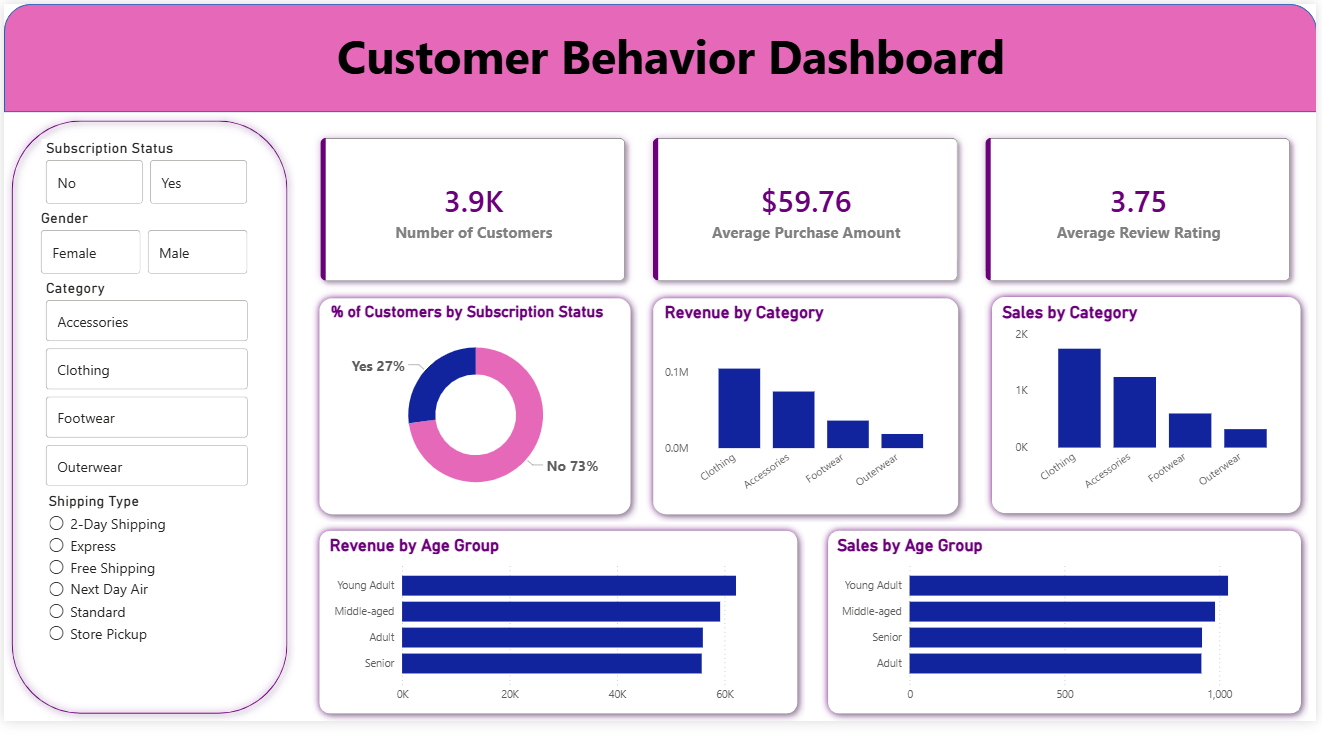

The dashboard page shown, as its layout file describes it:
{"tool":"powerbi","page":{"name":"Page 1","canvas":[1500,820],"ordinal":0},"visuals":[{"type":"cardVisual","fields":{"Data":["public customer.Number of Customers","public customer.Average Purchase Amount","public customer.Average Review Rating"]},"box":[332.5,123.7,1167.9,221.2],"z":0},{"type":"shape","box":[0,0,1500.4,123.7],"z":1},{"type":"textbox","box":[81.1,16.5,1376.7,137.4],"z":2},{"type":"shape","box":[351.7,327,373.7,265.2],"z":3},{"type":"donutChart","title":"% of Customers by Subscription Status","fields":{"Category":["public customer.subscription_status"],"Y":["CountNonNull(public customer.customer_id)"]},"box":[367.1,342.9,341.4,235.7],"z":4},{"type":"shape","box":[732.3,327,366.9,265.2],"z":5},{"type":"shape","box":[1119.8,325.6,371,265.2],"z":6},{"type":"clusteredColumnChart","title":"Revenue by Category","fields":{"Y":["Sum(public customer.purchase_amount)"],"Category":["public customer.category"]},"box":[750.2,340.8,332.5,236.3],"z":7},{"type":"clusteredColumnChart","title":"Sales by Category","fields":{"Y":["CountNonNull(public customer.customer_id)"],"Category":["public customer.category"]},"box":[1135.7,341.4,340,235.7],"z":8},{"type":"shape","box":[0,124.3,332.9,695.7],"z":9},{"type":"advancedSlicerVisual","fields":{"Values":["public customer.subscription_status"]},"box":[42.9,154.3,241.4,80],"z":10},{"type":"advancedSlicerVisual","fields":{"Values":["public customer.gender"]},"box":[37.1,234.3,247.1,80],"z":11},{"type":"advancedSlicerVisual","fields":{"Values":["public customer.category"]},"box":[42.9,314.3,241.4,242.9],"z":12},{"type":"listSlicer","fields":{"Values":["public customer.shipping_type"]},"box":[45.7,557.1,237.1,231.4],"z":13},{"type":"shape","box":[351.4,592.9,564.3,227.1],"z":14},{"type":"clusteredBarChart","title":"Revenue by Age Group","fields":{"Y":["Sum(public customer.purchase_amount)"],"Category":["public customer.age_group"]},"box":[367.1,607.1,532.9,200],"z":15},{"type":"shape","box":[932.9,592.9,558.6,227.1],"z":16},{"type":"clusteredBarChart","title":"Sales by Age Group","fields":{"Category":["public customer.age_group"],"Y":["CountNonNull(public customer.customer_id)"]},"box":[947.1,607.1,532.9,200],"z":17}]}

Visuals, with their boxes in screenshot pixels (x1, y1, x2, y2), scaled from the page's 1500x820 canvas onto the 1322x745 screenshot:
cardVisual - public customer.Number of Customers x public customer.Average Purchase Amount: box(293, 112, 1321, 313)
shape: box(0, 0, 1321, 112)
textbox: box(71, 15, 1285, 140)
shape: box(310, 297, 639, 538)
"% of Customers by Subscription Status" donutChart: box(324, 312, 624, 526)
shape: box(645, 297, 969, 538)
shape: box(987, 296, 1314, 537)
"Revenue by Category" clusteredColumnChart: box(661, 310, 954, 524)
"Sales by Category" clusteredColumnChart: box(1001, 310, 1301, 524)
shape: box(0, 113, 293, 744)
advancedSlicerVisual - public customer.subscription_status: box(38, 140, 251, 213)
advancedSlicerVisual - public customer.gender: box(33, 213, 250, 286)
advancedSlicerVisual - public customer.category: box(38, 286, 251, 506)
listSlicer - public customer.shipping_type: box(40, 506, 249, 716)
shape: box(310, 539, 807, 744)
"Revenue by Age Group" clusteredBarChart: box(324, 552, 793, 733)
shape: box(822, 539, 1315, 744)
"Sales by Age Group" clusteredBarChart: box(835, 552, 1304, 733)
